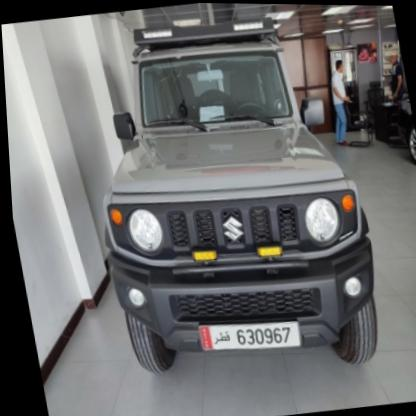np: (189, 309, 301, 361)
